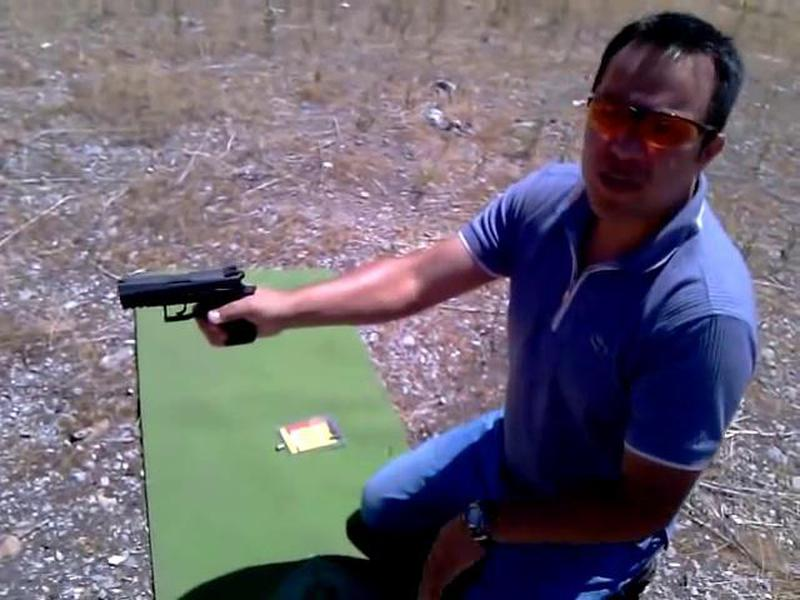Pistola: (99, 263, 257, 342)
